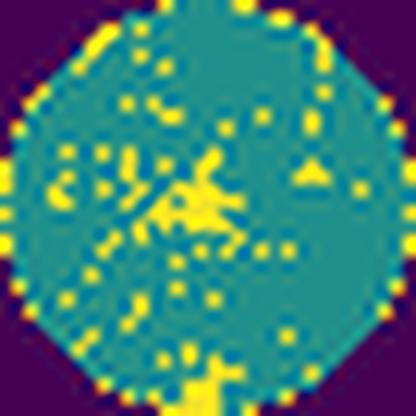Center: (132, 148, 253, 258)
